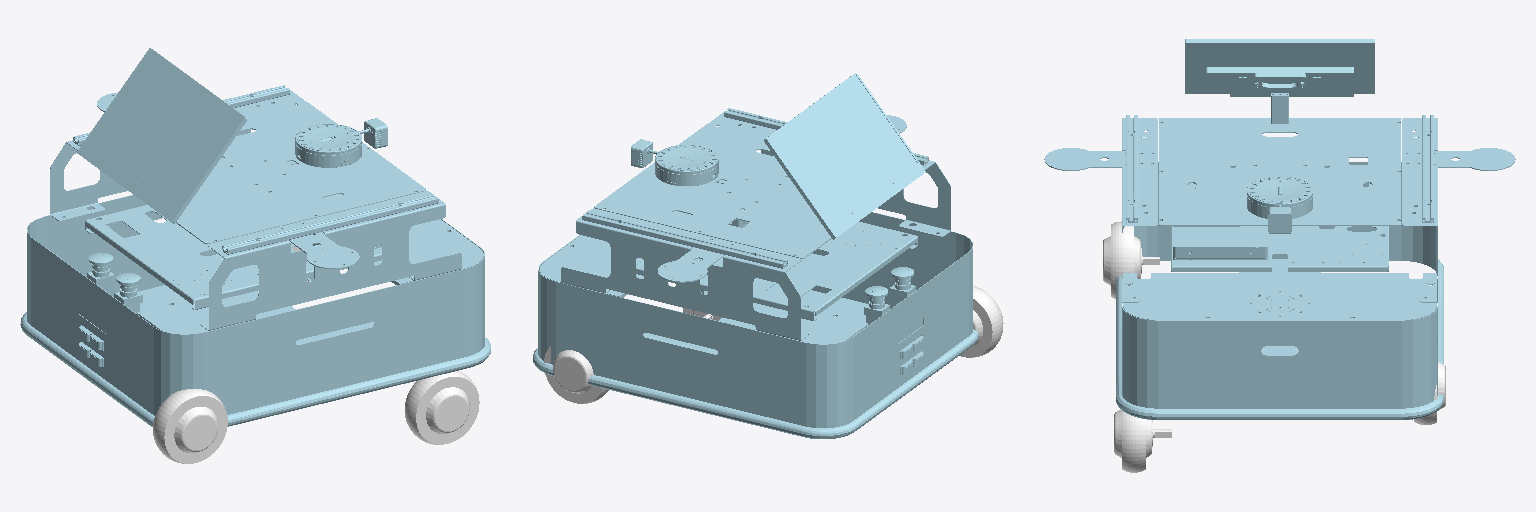
URDF robot description (lucsys_lsr550_mec_premium_independent_suspension):
<?xml version="1.0" encoding="utf-8"?>
<robot name="lucsys_lsr550_mec_premium_independent_suspension">
  <link name="base_link">
    <inertial>
      <origin xyz="0.00395812997139428 -0.0181699700367143 0.0426976808291864" rpy="0 0 0" />
      <mass value="3.63363059228835" />
      <inertia ixx="0.0123476894434173" ixy="-3.75380777513439E-05" ixz="3.2955850810326E-06" iyy="0.0191530909543642" iyz="-4.72702736402811E-07" izz="0.0300856570898858" />
    </inertial>
    <visual>
      <origin xyz="0 0 0" rpy="0 0 0" />
      <geometry>
        <mesh filename="package://lucsys_lsr550_mec_premium_independent_suspension_description/meshes/lsr550_mec_premium_independent_suspension/base_link.STL" />
      </geometry>
      <material name="lucsys_material_0">
        <color rgba="0.741176470588235 0.901960784313726 0.956862745098039 1" />
      </material>
    </visual>
    <collision>
      <origin xyz="0 0 0" rpy="0 0 0" />
      <geometry>
        <mesh filename="package://lucsys_lsr550_mec_premium_independent_suspension_description/meshes/lsr550_mec_premium_independent_suspension/base_link.STL" />
      </geometry>
    </collision>
  </link>
  <link name="lf_wheel_link">
    <inertial>
      <origin xyz="1.59463379857394E-05 -0.00251989341236478 4.50644259958333E-06" rpy="0 0 0" />
      <mass value="0.242981515052131" />
      <inertia ixx="0.000457072694528196" ixy="-1.9250151988867E-07" ixz="1.81223948807993E-08" iyy="0.000868054982970888" iyz="1.62139611461968E-08" izz="0.000456492835033346" />
    </inertial>
    <visual>
      <origin xyz="0 0 0" rpy="0 0 0" />
      <geometry>
        <mesh filename="package://lucsys_lsr550_mec_premium_independent_suspension_description/meshes/lsr550_mec_premium_independent_suspension/lf_wheel_link.STL" />
      </geometry>
      <material name="lucsys_material_1">
        <color rgba="1 1 1 1" />
      </material>
    </visual>
    <collision>
      <origin xyz="0 0 0" rpy="0 0 0" />
      <geometry>
        <mesh filename="package://lucsys_lsr550_mec_premium_independent_suspension_description/meshes/lsr550_mec_premium_independent_suspension/lf_wheel_link.STL" />
      </geometry>
    </collision>
  </link>
  <joint name="lf_wheel_joint" type="continuous">
    <origin xyz="0.213993160645858 0.240475641802969 0.016474000000001" rpy="0 0 0" />
    <parent link="base_link" />
    <child link="lf_wheel_link" />
    <axis xyz="0 -0.999999999999996 0" />
  </joint>
  <link name="lb_wheel_link">
    <inertial>
      <origin xyz="1.59463380910441E-05 -0.00251989341229217 4.50644260036048E-06" rpy="0 0 0" />
      <mass value="0.242981515052133" />
      <inertia ixx="0.000457072694528221" ixy="-1.92501519890702E-07" ixz="1.81223938957395E-08" iyy="0.000868054982970891" iyz="1.62139604712804E-08" izz="0.000456492835033342" />
    </inertial>
    <visual>
      <origin xyz="0 0 0" rpy="0 0 0" />
      <geometry>
        <mesh filename="package://lucsys_lsr550_mec_premium_independent_suspension_description/meshes/lsr550_mec_premium_independent_suspension/lb_wheel_link.STL" />
      </geometry>
      <material name="lucsys_material_2">
        <color rgba="1 1 1 1" />
      </material>
    </visual>
    <collision>
      <origin xyz="0 0 0" rpy="0 0 0" />
      <geometry>
        <mesh filename="package://lucsys_lsr550_mec_premium_independent_suspension_description/meshes/lsr550_mec_premium_independent_suspension/lb_wheel_link.STL" />
      </geometry>
    </collision>
  </link>
  <joint name="lb_wheel_joint" type="continuous">
    <origin xyz="-0.214006839354142 0.24047564180297 0.016474000000001" rpy="0 0 0" />
    <parent link="base_link" />
    <child link="lb_wheel_link" />
    <axis xyz="0 -0.999999999999996 0" />
  </joint>
  <link name="rb_wheel_link">
    <inertial>
      <origin xyz="-1.59465977699336E-05 0.00251989349341034 4.50644259479549E-06" rpy="0 0 0" />
      <mass value="0.242981515052113" />
      <inertia ixx="0.000457072694526328" ixy="-1.92499502994276E-07" ixz="-1.81223950058615E-08" iyy="0.000868054982972683" iyz="-1.6213961026137E-08" izz="0.000456492835033308" />
    </inertial>
    <visual>
      <origin xyz="0 0 0" rpy="0 0 0" />
      <geometry>
        <mesh filename="package://lucsys_lsr550_mec_premium_independent_suspension_description/meshes/lsr550_mec_premium_independent_suspension/rb_wheel_link.STL" />
      </geometry>
      <material name="lucsys_material_3">
        <color rgba="1 1 1 1" />
      </material>
    </visual>
    <collision>
      <origin xyz="0 0 0" rpy="0 0 0" />
      <geometry>
        <mesh filename="package://lucsys_lsr550_mec_premium_independent_suspension_description/meshes/lsr550_mec_premium_independent_suspension/rb_wheel_link.STL" />
      </geometry>
    </collision>
  </link>
  <joint name="rb_wheel_joint" type="continuous">
    <origin xyz="-0.214006839354144 -0.24044035819703 0.016474000000001" rpy="0 0 0" />
    <parent link="base_link" />
    <child link="rb_wheel_link" />
    <axis xyz="0 0.999999999999996 0" />
  </joint>
  <link name="rf_wheel_link">
    <inertial>
      <origin xyz="-1.59465979211737E-05 0.00251989349332665 4.50644254888777E-06" rpy="0 0 0" />
      <mass value="0.242981515051806" />
      <inertia ixx="0.000457072694525809" ixy="-1.92499502845376E-07" ixz="-1.81223936037035E-08" iyy="0.000868054982972009" iyz="-1.62139602190554E-08" izz="0.000456492835032971" />
    </inertial>
    <visual>
      <origin xyz="0 0 0" rpy="0 0 0" />
      <geometry>
        <mesh filename="package://lucsys_lsr550_mec_premium_independent_suspension_description/meshes/lsr550_mec_premium_independent_suspension/rf_wheel_link.STL" />
      </geometry>
      <material name="lucsys_material_4">
        <color rgba="1 1 1 1" />
      </material>
    </visual>
    <collision>
      <origin xyz="0 0 0" rpy="0 0 0" />
      <geometry>
        <mesh filename="package://lucsys_lsr550_mec_premium_independent_suspension_description/meshes/lsr550_mec_premium_independent_suspension/rf_wheel_link.STL" />
      </geometry>
    </collision>
  </link>
  <joint name="rf_wheel_joint" type="continuous">
    <origin xyz="0.213993160645856 -0.240440358197031 0.016474000000001" rpy="0 0 0" />
    <parent link="base_link" />
    <child link="rf_wheel_link" />
    <axis xyz="0 0.999999999999996 0" />
  </joint>
  <link name="camera_link">
    <inertial>
      <origin xyz="3.44868297197376E-07 -3.53598340572376E-07 1.07617269679006E-07" rpy="0 0 0" />
      <mass value="0.0559842512667171" />
      <inertia ixx="0.000130810959355657" ixy="1.20255121404776E-07" ixz="1.62335437373898E-06" iyy="1.91148635028014E-05" iyz="-2.800166957858E-08" izz="0.000131387469540189" />
    </inertial>
    <visual>
      <origin xyz="0 0 0" rpy="0 0 0" />
      <geometry>
        <mesh filename="package://lucsys_lsr550_mec_premium_independent_suspension_description/meshes/lsr550_mec_premium_independent_suspension/camera_link.STL" />
      </geometry>
      <material name="lucsys_material_5">
        <color rgba="1 1 1 1" />
      </material>
    </visual>
    <collision>
      <origin xyz="0 0 0" rpy="0 0 0" />
      <geometry>
        <mesh filename="package://lucsys_lsr550_mec_premium_independent_suspension_description/meshes/lsr550_mec_premium_independent_suspension/camera_link.STL" />
      </geometry>
    </collision>
  </link>
  <joint name="camera_joint" type="fixed">
    <origin xyz="0.231597160645857 0.000245641802968558 0.128204000000001" rpy="0 0 0" />
    <parent link="base_link" />
    <child link="camera_link" />
    <axis xyz="0 0 0" />
  </joint>
  <link name="laser_link">
    <inertial>
      <origin xyz="0.00196458631092417 -3.57895369235579E-06 -0.000201831632183805" rpy="0 0 0" />
      <mass value="0.0477519163700356" />
      <inertia ixx="3.38461999734689E-05" ixy="-2.19897049050557E-09" ixz="1.07118468692932E-06" iyy="3.9415041585171E-05" iyz="6.83978477325031E-10" izz="5.60787042097609E-05" />
    </inertial>
    <visual>
      <origin xyz="0 0 0" rpy="0 0 0" />
      <geometry>
        <mesh filename="package://lucsys_lsr550_mec_premium_independent_suspension_description/meshes/lsr550_mec_premium_independent_suspension/laser.STL" />
      </geometry>
      <material name="lucsys_material_6">
        <color rgba="0.376470588235294 0.376470588235294 0.376470588235294 1" />
      </material>
    </visual>
    <collision>
      <origin xyz="0 0 0" rpy="0 0 0" />
      <geometry>
        <mesh filename="package://lucsys_lsr550_mec_premium_independent_suspension_description/meshes/lsr550_mec_premium_independent_suspension/laser.STL" />
      </geometry>
    </collision>
  </link>
  <joint name="laser_joint" type="fixed">
    <origin xyz="0.156992810690855 1.79917579708449E-05 0.146524183741432" rpy="0 0 3.14159265358979" />
    <parent link="base_link" />
    <child link="laser_link" />
    <axis xyz="0 0 0" />
  </joint>
  <link name="controller_link">
    <inertial>
      <origin xyz="-0.0497103400547847 0.0175133932690561 0.00856001464881978" rpy="0 0 0" />
      <mass value="0.00107921954114689" />
      <inertia ixx="1.16330109995671E-08" ixy="-3.94092662514708E-09" ixz="3.69212982720616E-10" iyy="2.2683002186192E-07" iyz="5.23015112085359E-10" izz="2.25657044103421E-07" />
    </inertial>
    <visual>
      <origin xyz="0 0 0" rpy="0 0 0" />
      <geometry>
        <mesh filename="package://lucsys_lsr550_mec_premium_independent_suspension_description/meshes/lsr550_mec_premium_independent_suspension/controller_link.STL" />
      </geometry>
      <material name="lucsys_material_7">
        <color rgba="0.741176470588235 0.901960784313726 0.956862745098039 1" />
      </material>
    </visual>
    <collision>
      <origin xyz="0 0 0" rpy="0 0 0" />
      <geometry>
        <mesh filename="package://lucsys_lsr550_mec_premium_independent_suspension_description/meshes/lsr550_mec_premium_independent_suspension/controller_link.STL" />
      </geometry>
    </collision>
  </link>
  <joint name="controller_joint" type="fixed">
    <origin xyz="0.101379911991689 0.0620176418028498 0.00150000000000076" rpy="0 0 0" />
    <parent link="base_link" />
    <child link="controller_link" />
    <axis xyz="0 0 0" />
  </joint>
</robot>

--- Render facts (derived) ---
Views: 3 orthographic renders of the robot side by side, from view 1: azimuth 30°, elevation 25°; view 2: azimuth 150°, elevation 25°; view 3: azimuth 270°, elevation 25°.
Model lucsys_lsr550_mec_premium_independent_suspension with 8 links and 7 joints (4 continuous, 3 fixed), rooted at base_link, posed all joints at 0.
Links seen in each view (by area): view 1: base_link, rb_wheel_link, rf_wheel_link; view 2: base_link, lf_wheel_link, rb_wheel_link; view 3: base_link, rf_wheel_link, rb_wheel_link.
Link boxes in pixels (x1,y1,x2,y2): base_link: (20, 48, 490, 426); rb_wheel_link: (153, 389, 227, 463); rf_wheel_link: (405, 371, 479, 444); base_link: (533, 73, 978, 438); lf_wheel_link: (544, 346, 608, 403); rb_wheel_link: (960, 286, 1003, 357); base_link: (1044, 39, 1515, 419); rf_wheel_link: (1114, 410, 1171, 472); rb_wheel_link: (1103, 221, 1159, 298).
Size in the robot's own frame: 0.6592 by 0.7764 by 0.6309 metres.
4 mesh visuals loaded from 8 distinct referenced files (4 binary STL); not drawn: 4 (reference not matched to a file when rendering).
